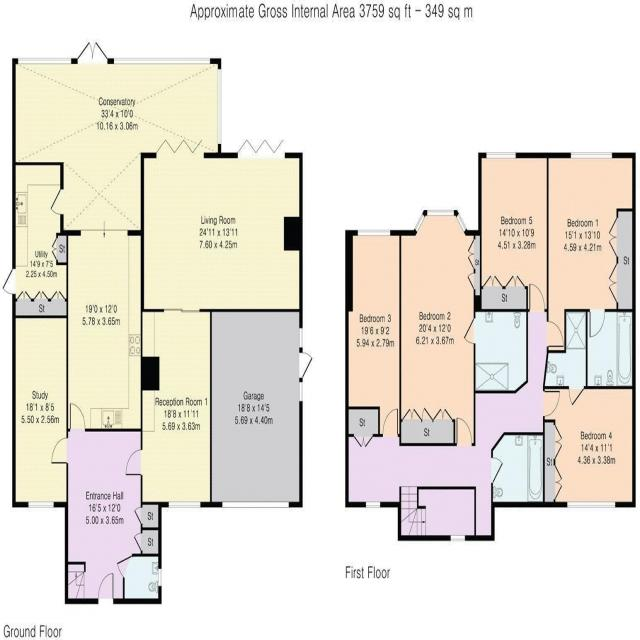DOOR: (97, 571, 114, 605), (546, 320, 565, 349), (542, 390, 561, 419), (382, 407, 399, 438), (456, 416, 473, 447), (589, 308, 606, 339), (69, 402, 86, 432), (529, 282, 545, 313), (125, 449, 143, 476), (51, 437, 68, 464), (50, 188, 64, 216), (2, 268, 16, 296), (568, 385, 585, 407), (491, 457, 504, 485), (463, 317, 476, 345)
DOUBLE DOOR: (75, 40, 109, 65)
FOLDING DOOR: (149, 128, 208, 160), (228, 132, 288, 161)
ROOM: (12, 40, 222, 432), (140, 137, 303, 313), (399, 210, 482, 447), (546, 152, 636, 354), (124, 308, 212, 508), (473, 152, 549, 312), (345, 230, 401, 437), (543, 385, 636, 509), (12, 315, 69, 508)
SLIDING DOOR: (161, 303, 201, 316)
WINDOW: (113, 57, 212, 66), (17, 57, 73, 66), (217, 67, 222, 146), (567, 501, 616, 509), (570, 152, 613, 160), (485, 151, 516, 160), (357, 229, 391, 237), (455, 212, 467, 234), (414, 212, 426, 233), (168, 501, 201, 508), (27, 501, 55, 509), (426, 209, 454, 217), (450, 534, 466, 542), (366, 501, 381, 509)
